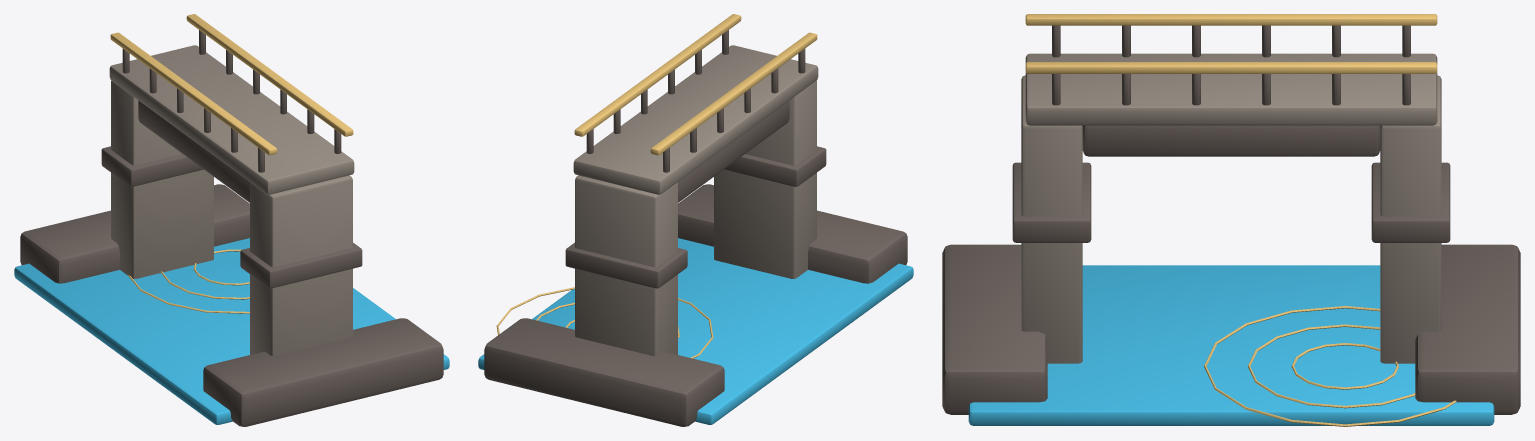
Rendered from LandBridge.fbx.
The picture shows the model from 3 angles, left to right: view 1: azimuth 30°, elevation 25°; view 2: azimuth 150°, elevation 25°; view 3: azimuth 270°, elevation 25°; orthographic projection. The views are drawn at different scales.
Visible parts, largest first — view 1: LandBridge; view 2: LandBridge; view 3: LandBridge.
Boxes of the visible parts, bbox=[...] form: LandBridge: bbox=[14, 14, 449, 426]; LandBridge: bbox=[478, 14, 913, 426]; LandBridge: bbox=[942, 14, 1520, 426].
Bounding box in the file's own units: 883 × 790 × 1320.
